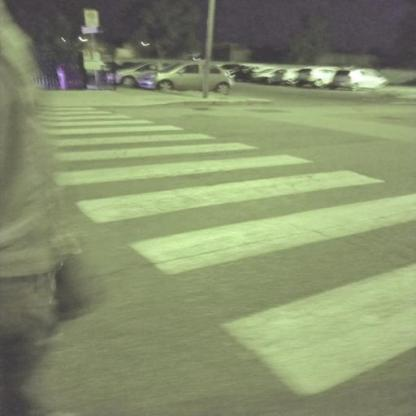crosswalk: (46, 152, 390, 232)
